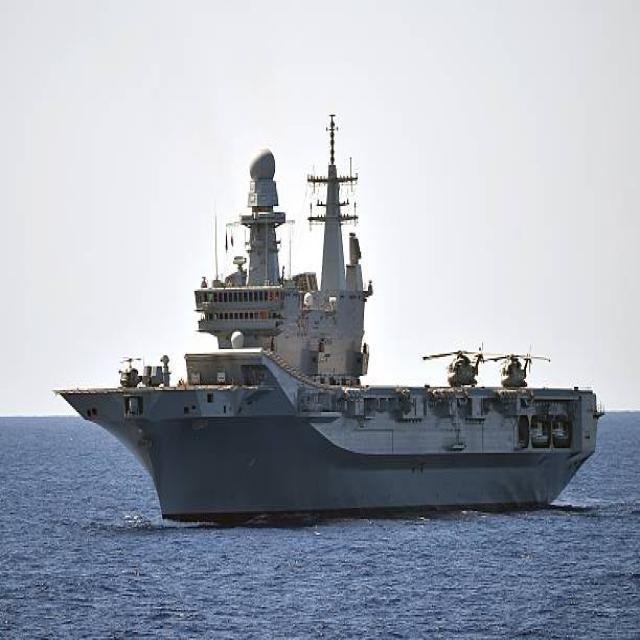Military: (58, 123, 602, 527)
